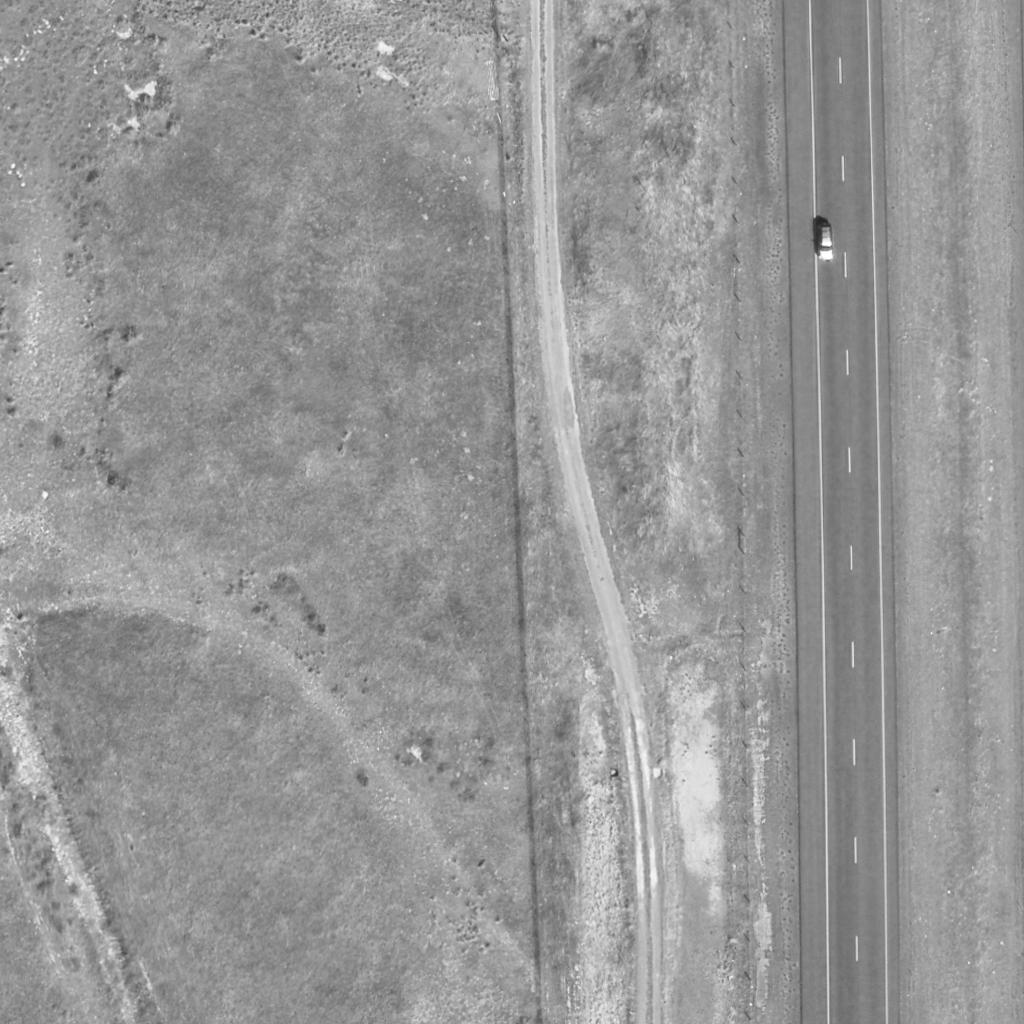vehicle: (815, 222, 835, 262)
